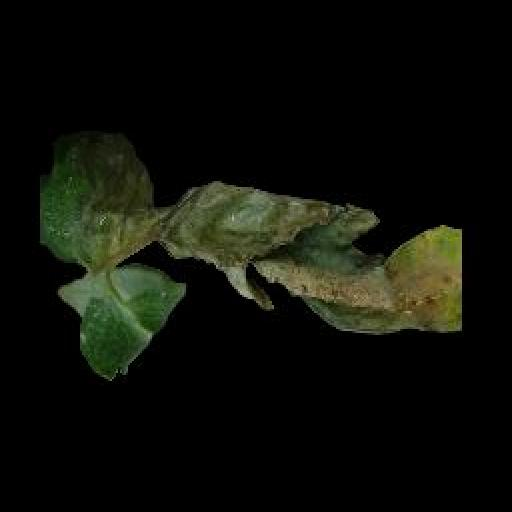disease_tomato: (37, 127, 463, 377)
